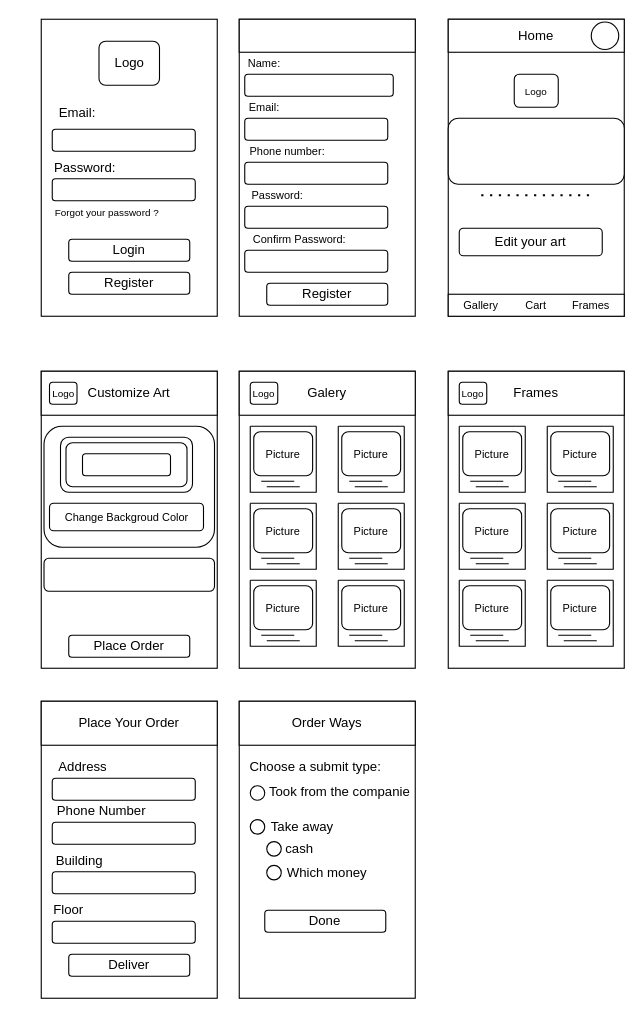
Some shapes in this 644 by 1018 pixel diagram are drawn without their labels. Each missing label, with the box of its shape:
Design parameters: (43, 557, 215, 591)
Profile: (590, 21, 619, 50)
Registration: (238, 18, 415, 52)
Slides Show: (447, 117, 624, 184)
Upload Photo: (81, 453, 170, 476)
